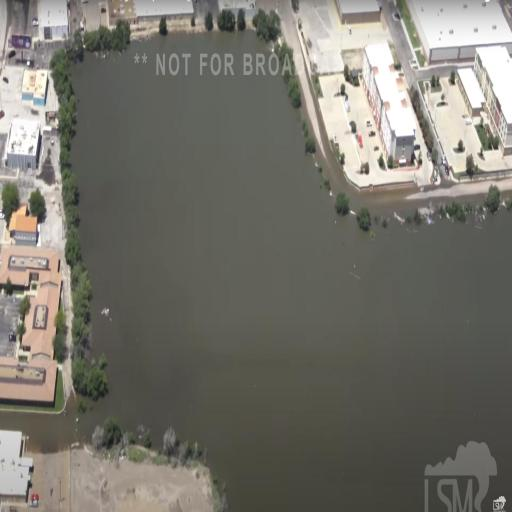flood: (0, 30, 512, 510), (426, 441, 498, 512)
house: (0, 243, 66, 409), (362, 42, 418, 166), (474, 45, 512, 154), (0, 428, 32, 505), (106, 0, 194, 27), (5, 116, 42, 173), (7, 204, 41, 248), (457, 65, 485, 118), (36, 0, 70, 37), (331, 0, 382, 23), (20, 68, 50, 104)
